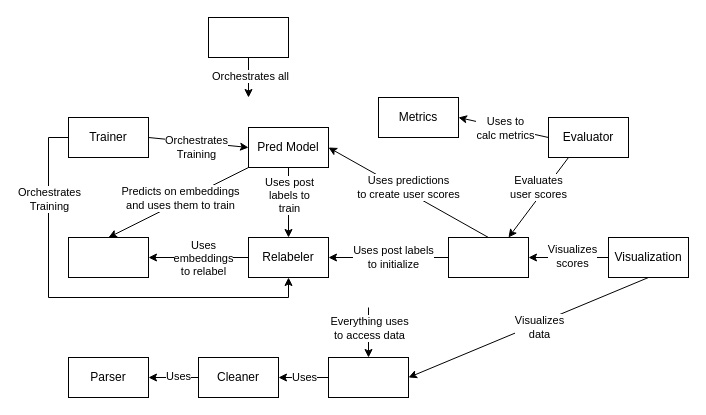
Image size: 706x415. Some labels were removed from this diagram. Here are the shapes that lost their labels. From the top down, the box of each, then its label:
(208, 16, 288, 58): Pipeline Manager
(68, 236, 148, 278): Rep Model
(448, 236, 528, 278): Aggregator
(328, 356, 408, 398): DataStorage
